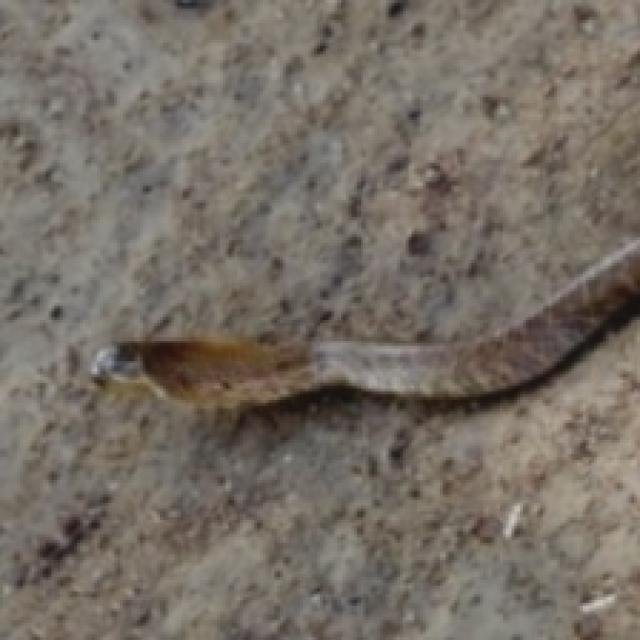philippine cobra: (92, 239, 640, 408)
